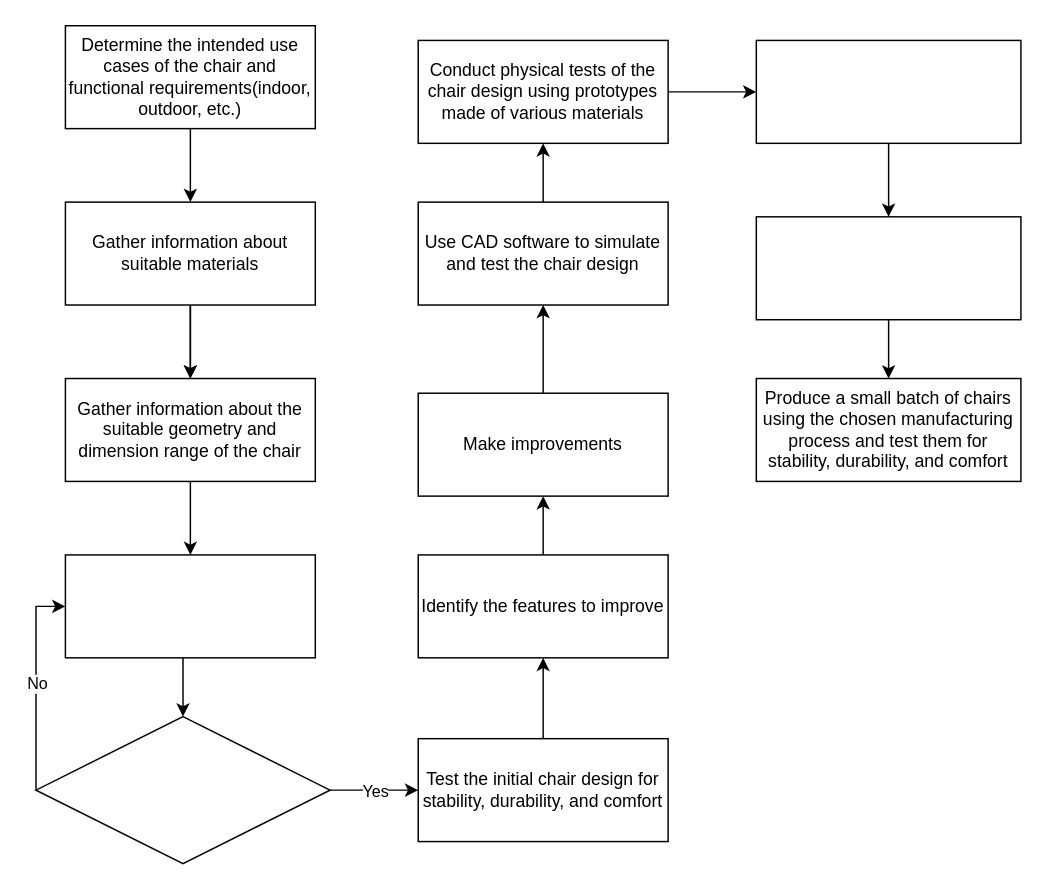
Image size: 1047x889. Some labels were removed from this diagram. Here are the shapes that lost their labels. From the top down, the box of each, then its label:
(755, 39, 1021, 143): Choose the most promising prototype based on the results of the physical tests
(755, 215, 1021, 320): Determine the most appropriate manufacturing process
(64, 553, 315, 658): Use the dedicated program (e.g. CAD) and prepare the project of the chair
(35, 715, 330, 864): Does your design meet the specification?
